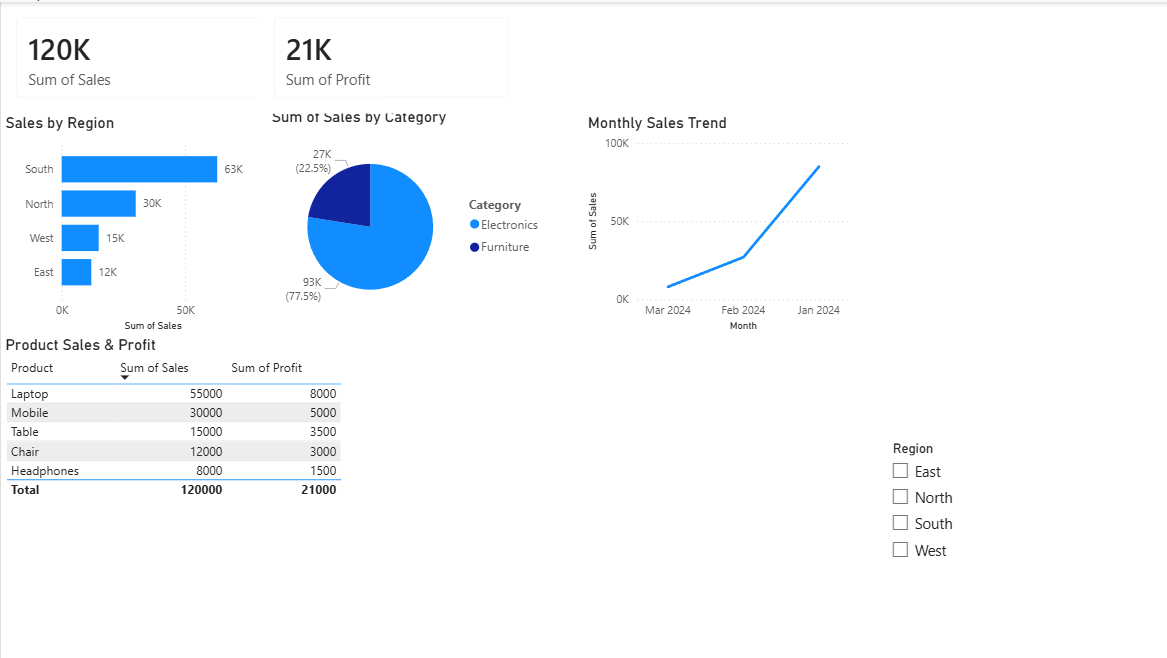

Layout of this report page (visuals, bound fields, positions):
{"tool":"powerbi","page":{"name":"Page 1","canvas":[1280,720],"ordinal":0},"visuals":[{"type":"clusteredBarChart","title":"Sales by Region","fields":{"Category":["sales_data.Region"],"Y":["Sum(sales_data.Sales)"]},"box":[0,122.1,282.7,244.3],"z":0},{"type":"pieChart","fields":{"Category":["sales_data.Category"],"Y":["Sum(sales_data.Sales)"]},"box":[292.3,115.3,311.5,244.3],"z":1000},{"type":"tableEx","title":"Product Sales & Profit","fields":{"Values":["sales_data.Product","Sum(sales_data.Sales)","Sum(sales_data.Profit)"]},"box":[0,366.4,388.3,244.3],"z":2000},{"type":"lineChart","title":"Monthly Sales Trend","fields":{"Category":["sales_data.Month"],"Y":["Sum(sales_data.Sales)"]},"box":[639.5,122.1,297.8,244.3],"z":3000},{"type":"cardVisual","fields":{"Data":["Sum(sales_data.Sales)"]},"box":[0,0,301.9,122.1],"z":4000},{"type":"cardVisual","fields":{"Data":["Sum(sales_data.Profit)"]},"box":[282.7,0,292.3,122.1],"z":5000},{"type":"slicer","fields":{"Values":["sales_data.Region"]},"box":[966,476.2,314.2,244.3],"z":6000}]}

Visuals, with their boxes in screenshot pixels (x1, y1, x2, y2), scaled from the page's 1280x720 canvas onto the 1167x658 screenshot:
"Sales by Region" clusteredBarChart: [0,112,258,335]
pieChart - sales_data.Category x Sum(sales_data.Sales): [266,105,550,329]
"Product Sales & Profit" tableEx: [0,335,354,558]
"Monthly Sales Trend" lineChart: [583,112,855,335]
cardVisual - Sum(sales_data.Sales): [0,0,275,112]
cardVisual - Sum(sales_data.Profit): [258,0,524,112]
slicer - sales_data.Region: [881,435,1166,657]
